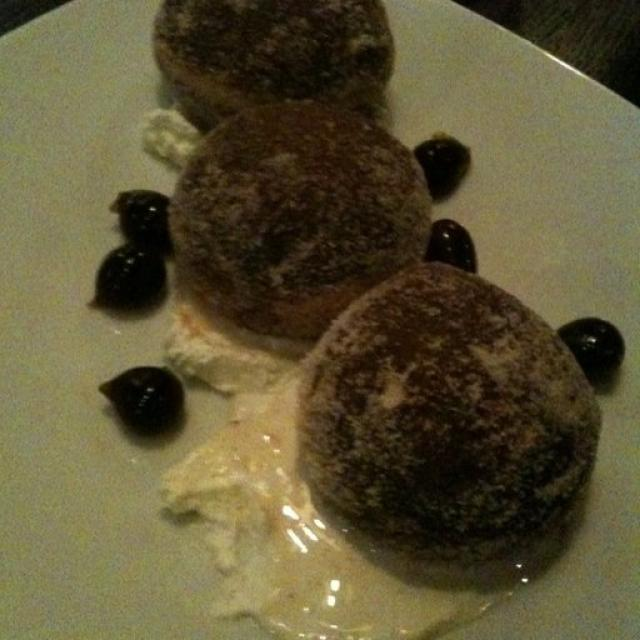Donuts: (143, 5, 593, 559)
